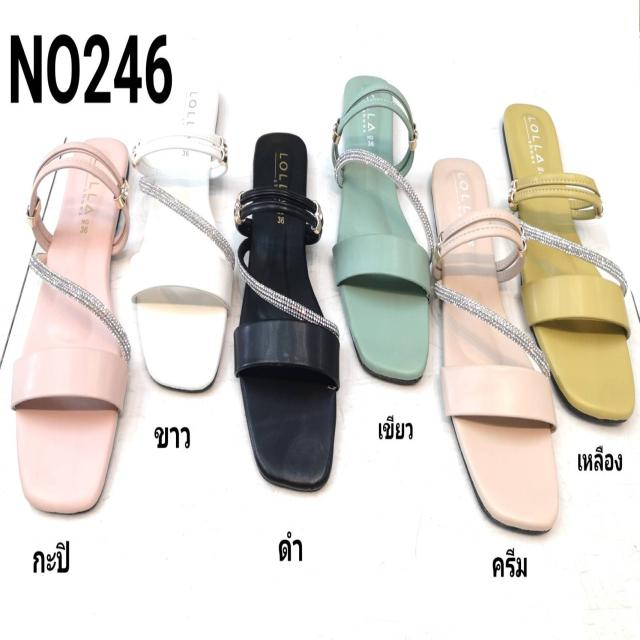black: (235, 133, 333, 496)
cream: (429, 152, 556, 532)
green: (331, 75, 426, 386)
kapi: (15, 136, 120, 514)
white: (133, 92, 235, 396)
yellow: (499, 103, 632, 425)
